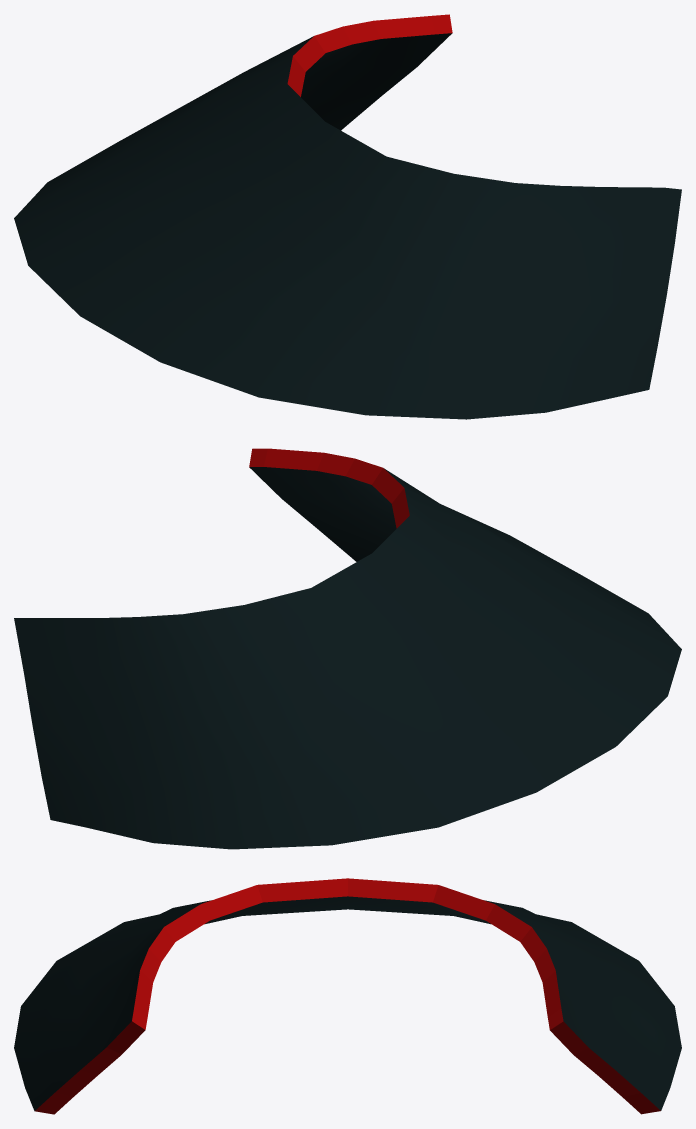
File: boat_part4.FBX
3 views of the same model, one above another, from view 1: azimuth 30°, elevation 25°; view 2: azimuth 150°, elevation 25°; view 3: azimuth 270°, elevation 25° (orthographic). The views are drawn at different scales.
Visible parts, largest first — view 1: transform_hovercraft_RIG:hover048; view 2: transform_hovercraft_RIG:hover048; view 3: transform_hovercraft_RIG:hover048.
Boxes of the visible parts, <box> form: transform_hovercraft_RIG:hover048: <box>14,14,681,419</box>; transform_hovercraft_RIG:hover048: <box>14,448,681,849</box>; transform_hovercraft_RIG:hover048: <box>14,878,681,1114</box>.
Bounding box in the file's own units: 33.99 × 12.2 × 44.09.
